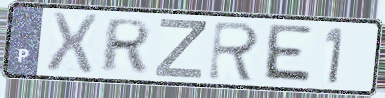1: (323, 26, 345, 87)
E: (260, 22, 316, 86)
R: (205, 19, 263, 84), (97, 16, 154, 74)
X: (43, 10, 100, 75)
Z: (152, 17, 209, 81)
